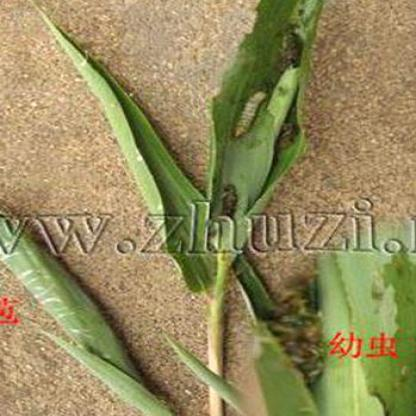leaf-folder: (212, 64, 274, 156)
